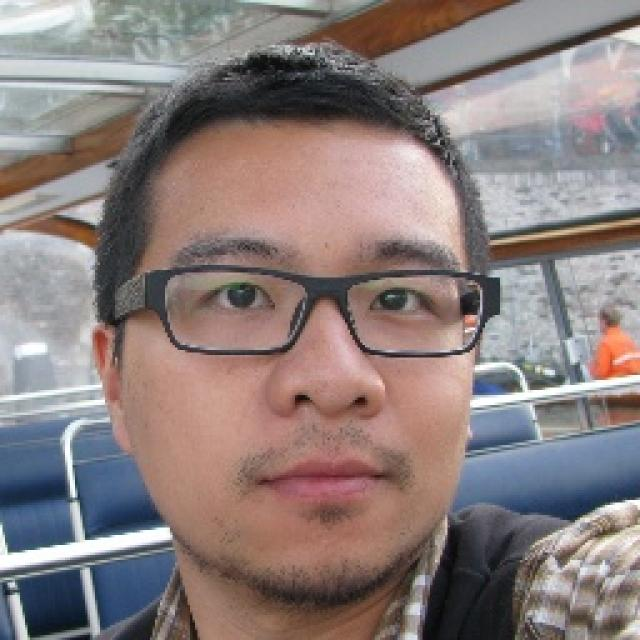earlobe: (90, 323, 136, 454)
